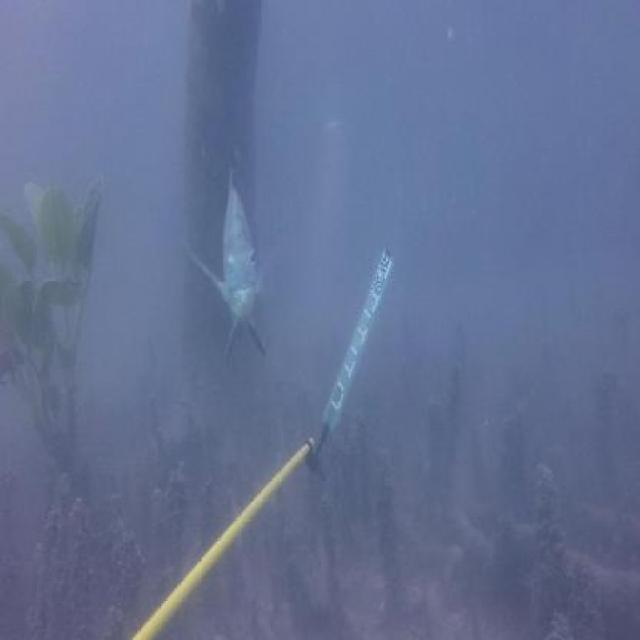acanthopagrus_palmaris: (194, 152, 289, 371)
